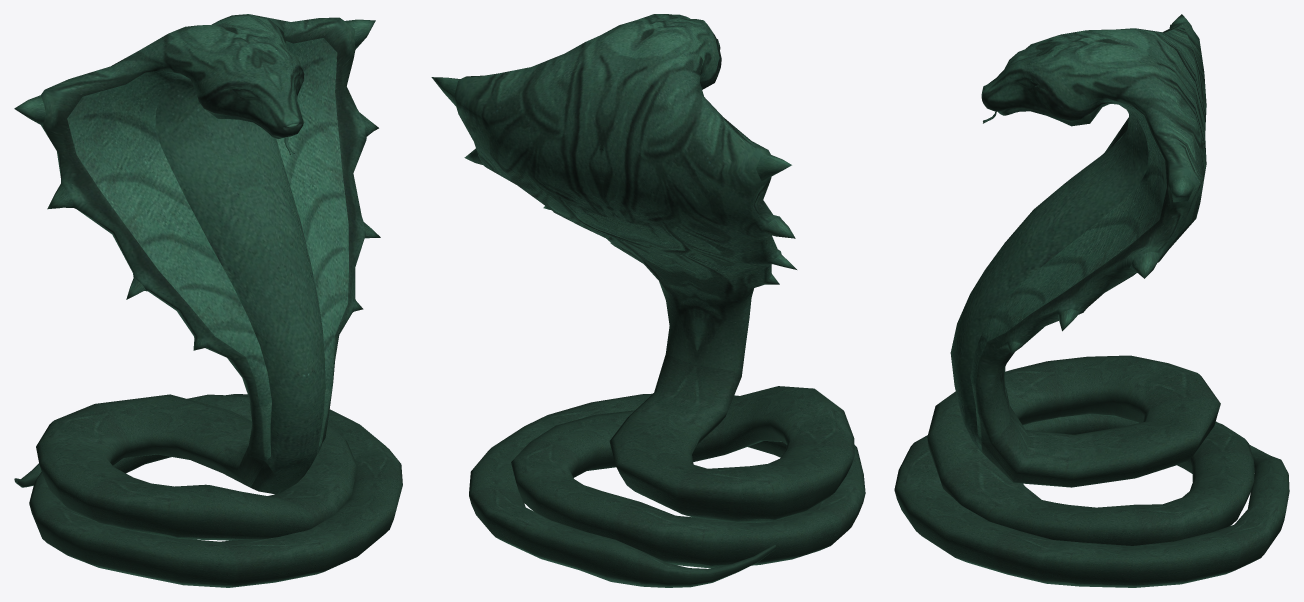
3 renders of one model, left to right at view 1: azimuth 30°, elevation 25°; view 2: azimuth 150°, elevation 25°; view 3: azimuth 270°, elevation 25°, orthographic. The views are drawn at different scales.
Parts seen in each view (by area): view 1: 对象001; view 2: 对象001; view 3: 对象001.
Boxes of the visible parts, box(x1,y1,x2,y2) form: 对象001: box(14, 14, 402, 587); 对象001: box(431, 14, 865, 587); 对象001: box(894, 14, 1289, 587).
Size of the model in its own units: 9.72 by 11.92 by 8.69.
